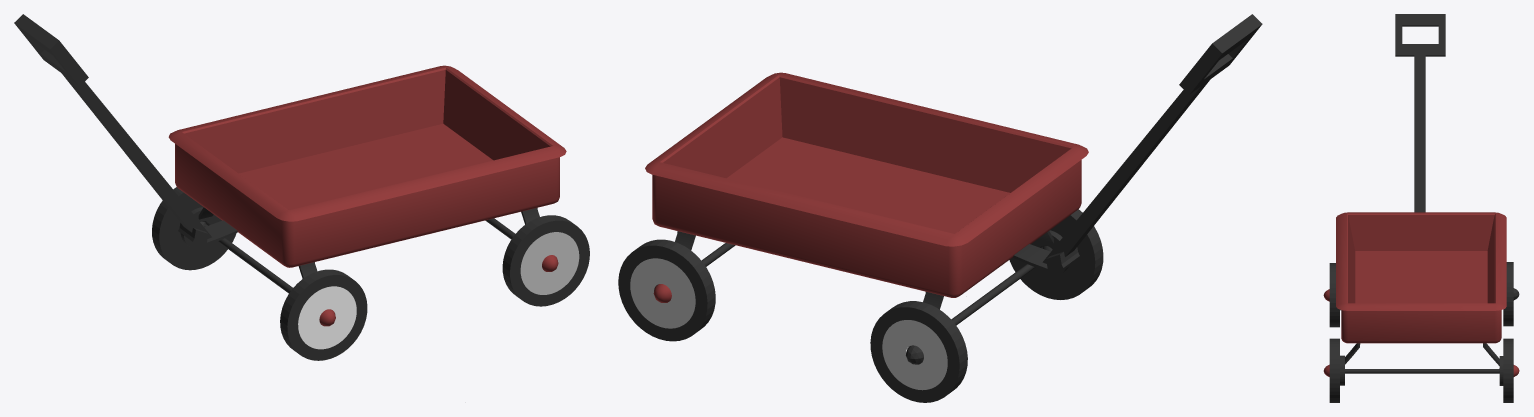
Rendered from 274feb0b-9f06-48c7-9ca9-07803a373330.glb.
3 views of the same model, side by side, from view 1: azimuth 30°, elevation 25°; view 2: azimuth 150°, elevation 25°; view 3: azimuth 270°, elevation 25° (orthographic). The views are drawn at different scales.
Parts seen in each view (by area): view 1: Tube002; view 2: Tube002; view 3: Tube002.
Boxes of the visible parts, x1,y1,x2,y2 form: Tube002: (14, 14, 589, 360); Tube002: (618, 14, 1262, 402); Tube002: (1323, 14, 1519, 402).
Bounding box in the file's own units: 65.05 × 49.01 × 37.49.
